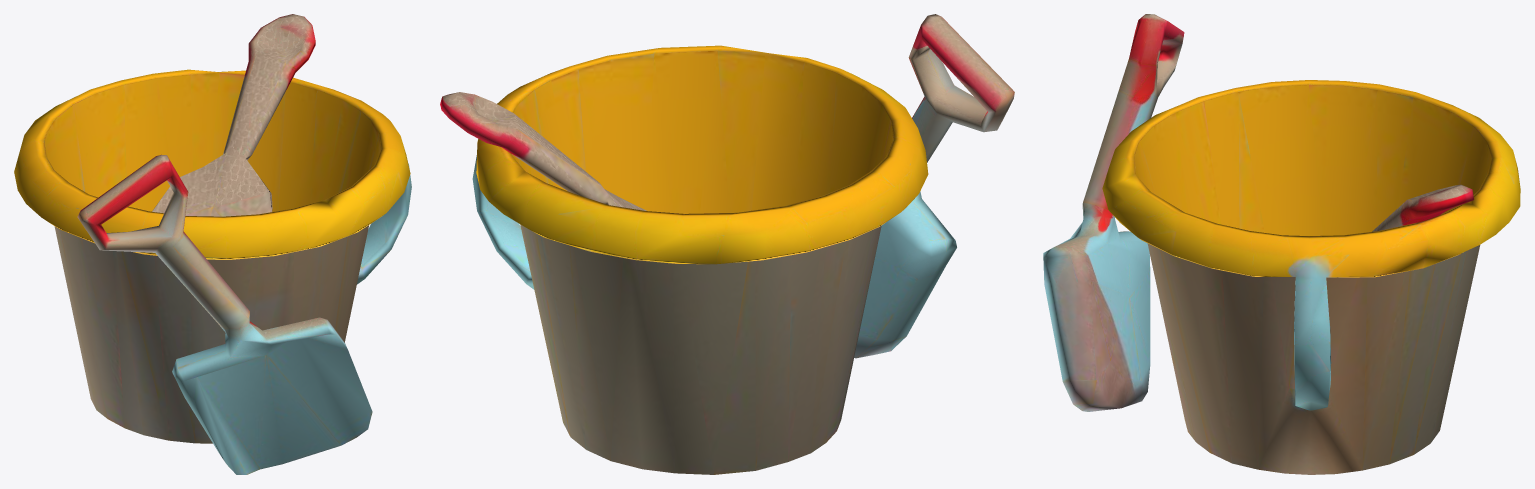
File: sand_toys.glb
3 views of the same model, side by side, from view 1: azimuth 30°, elevation 25°; view 2: azimuth 150°, elevation 25°; view 3: azimuth 270°, elevation 25° (orthographic). The views are drawn at different scales.
Bounding box in the file's own units: 0.4432 × 0.35 × 0.4432.
1 material, 1 textured.
